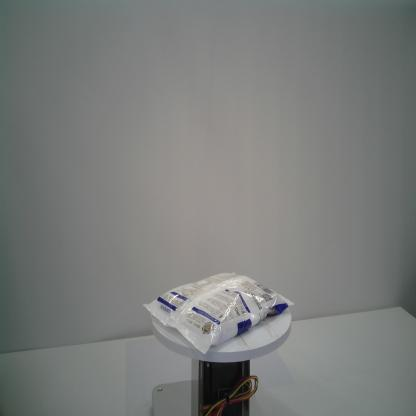Seasoner: (142, 271, 294, 354)
